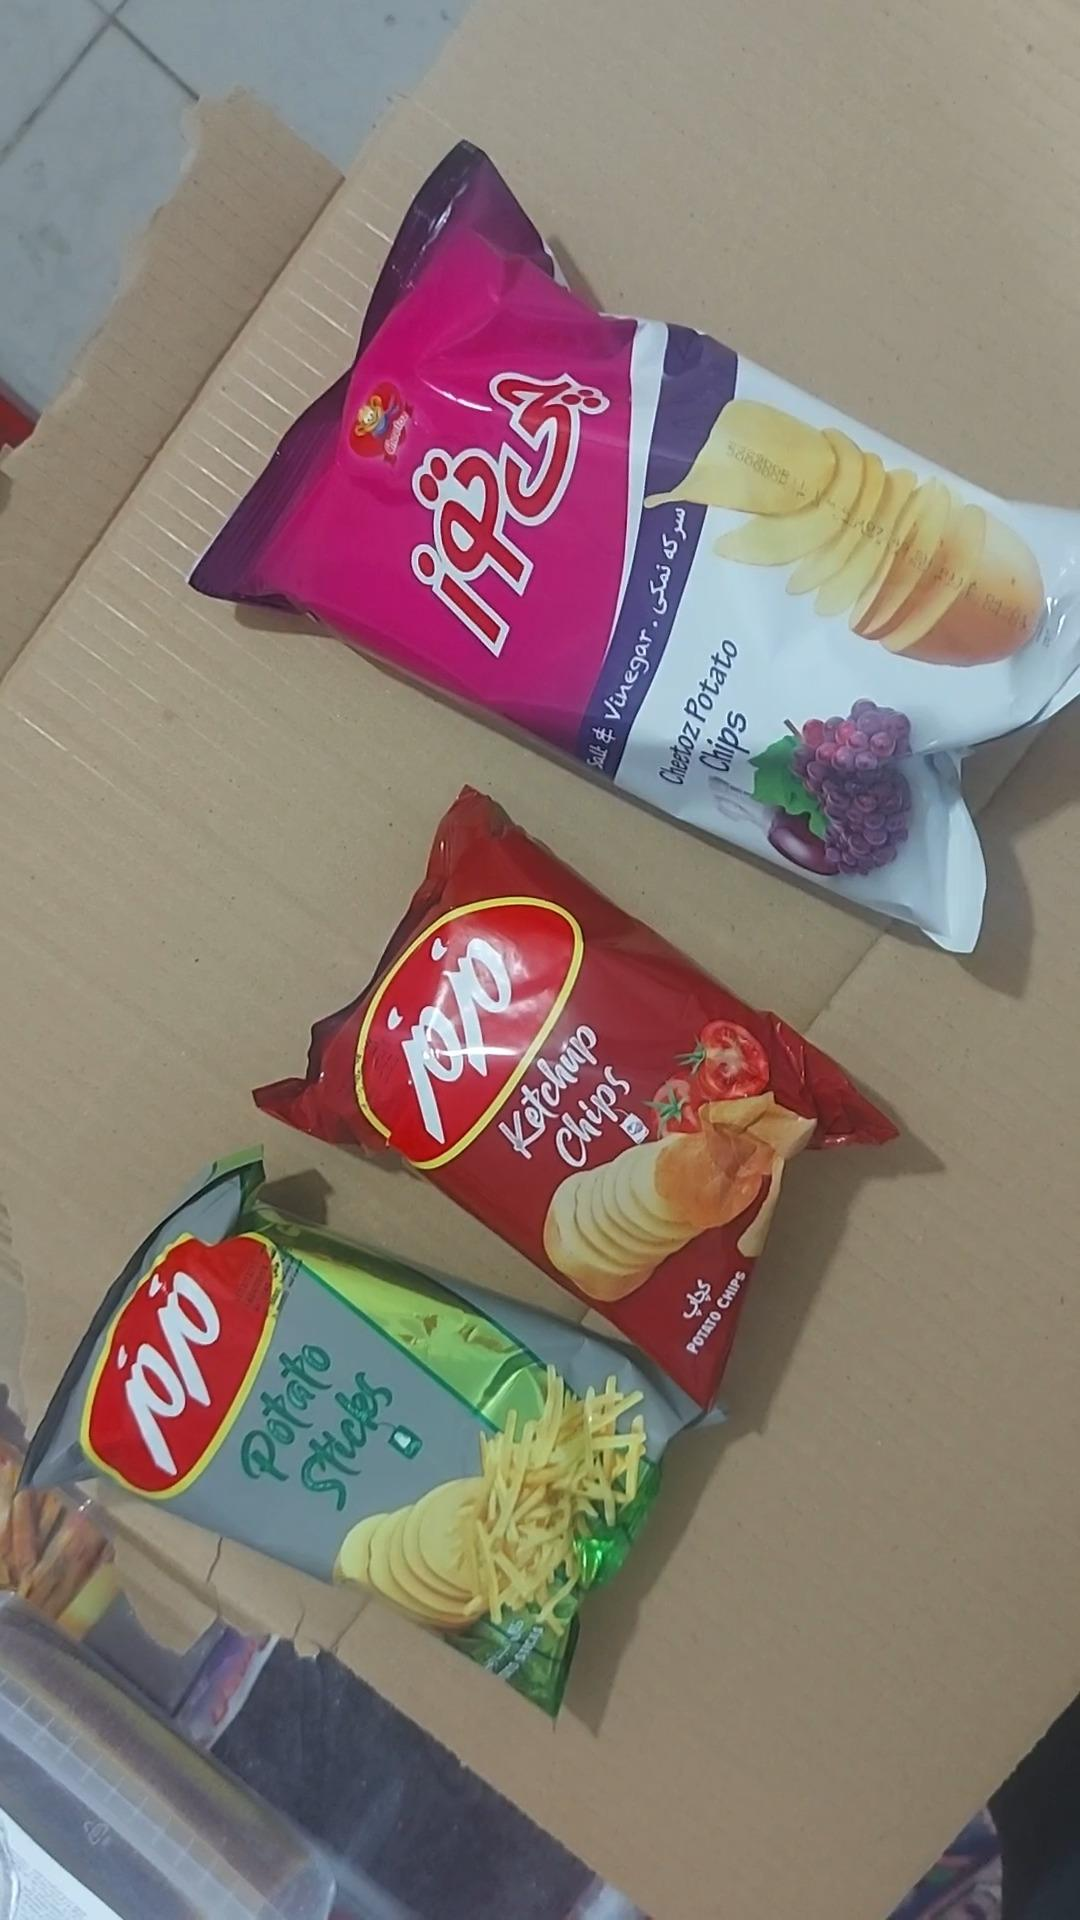Cheetoz vinegar chips: (191, 142, 1079, 957)
Maz Maz ketchup chips: (255, 787, 897, 1412)
Maz Maz potato sticks: (22, 1153, 708, 1718)
